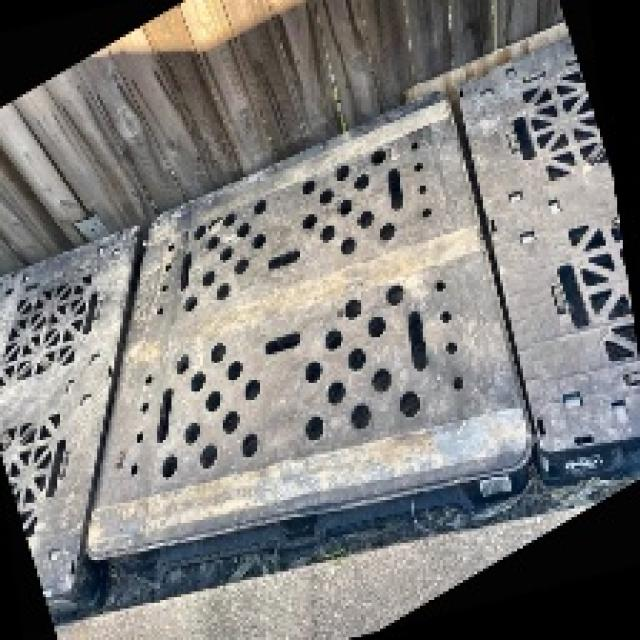igps: (80, 86, 540, 597)
